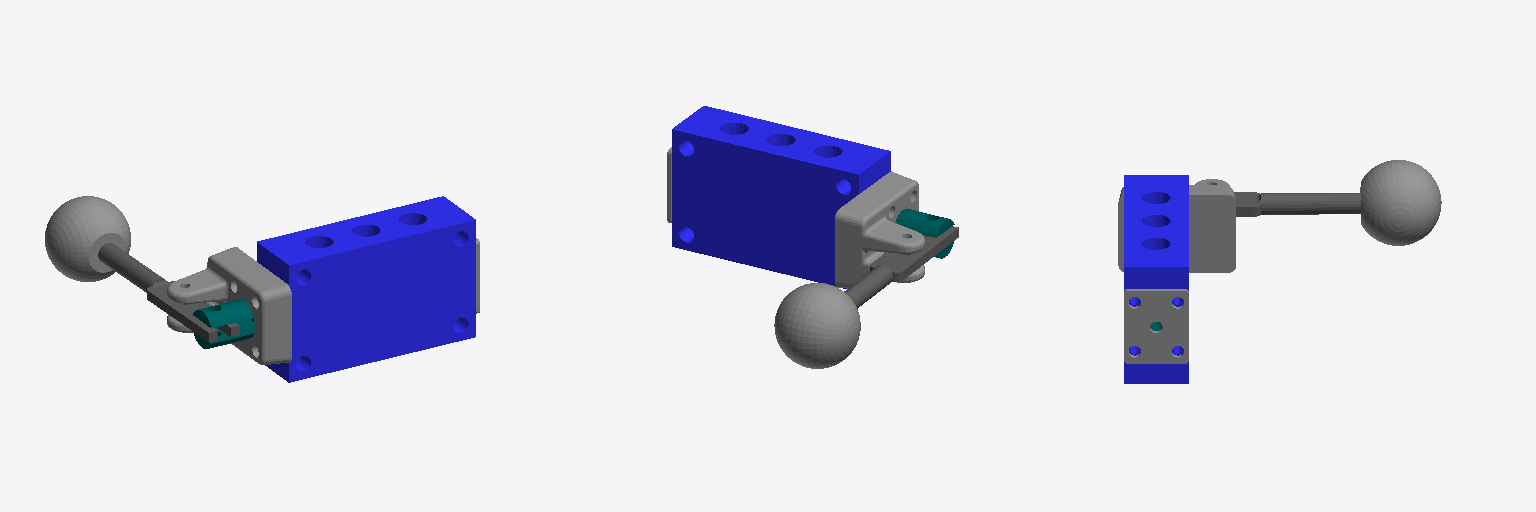
File: asm.obj
The picture shows the model from 3 angles: view 1: azimuth 30°, elevation 25°; view 2: azimuth 150°, elevation 25°; view 3: azimuth 270°, elevation 25°; orthographic projection.
Visible parts, largest first — view 1: copy_of_1_asm_2; view 2: copy_of_1_asm_2; view 3: copy_of_1_asm_2.
Boxes of the visible parts, x1,y1,x2,y2 form: copy_of_1_asm_2: [45, 196, 479, 382]; copy_of_1_asm_2: [667, 106, 958, 368]; copy_of_1_asm_2: [1118, 160, 1441, 383].
Bounding box in the file's own units: 99.24 × 38.1 × 94.97.